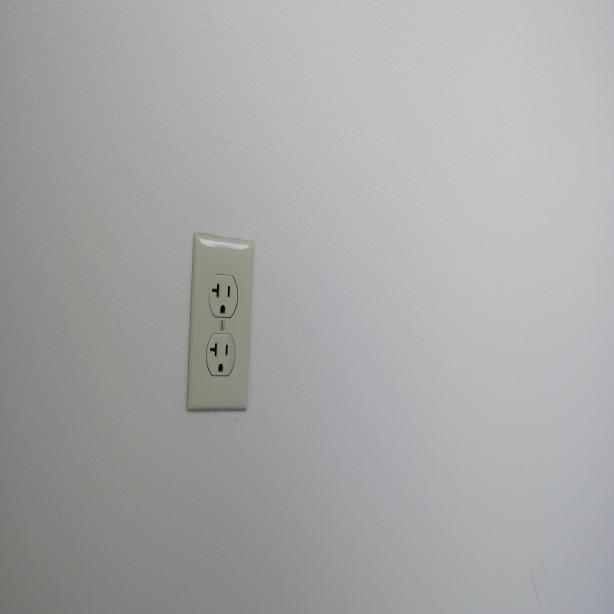typeb: (209, 276, 238, 316), (207, 339, 232, 378)
